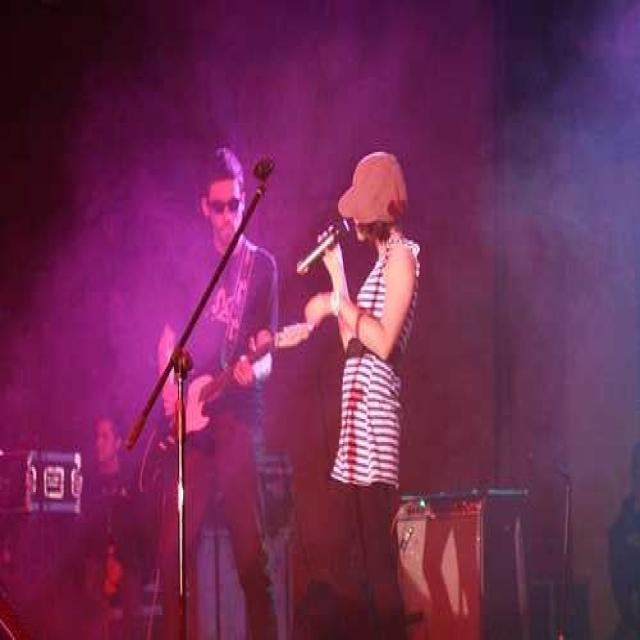microphone: (296, 216, 350, 276), (250, 154, 276, 201), (552, 458, 572, 483)
